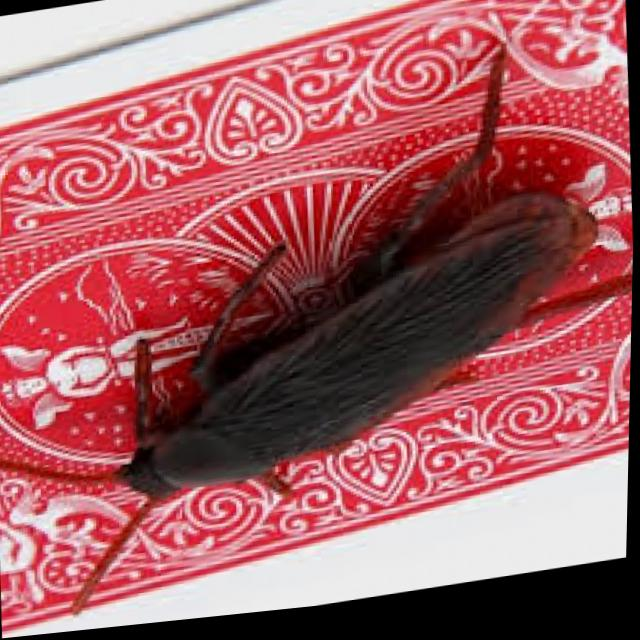Cockroach: (0, 107, 637, 640)
